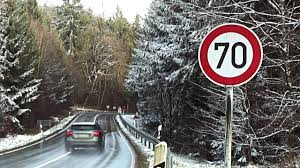Speed_limit_70km: (197, 23, 263, 86)
